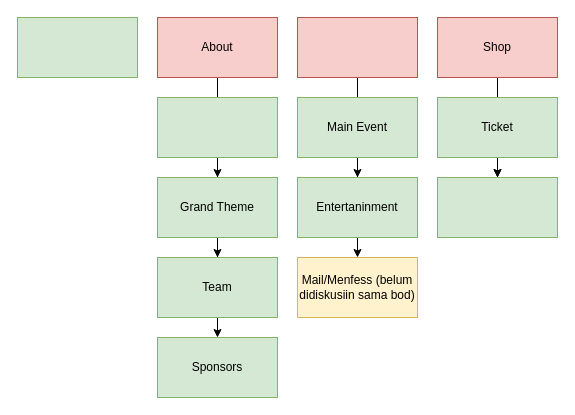
Image size: 575x415. Some labels were removed from this diagram. Each missing label, with the centre of its shape:
Event: the point at 357,47
Home: the point at 77,47
Merchandise: the point at 497,207
TEDxUINJakarta Journey: the point at 217,127
